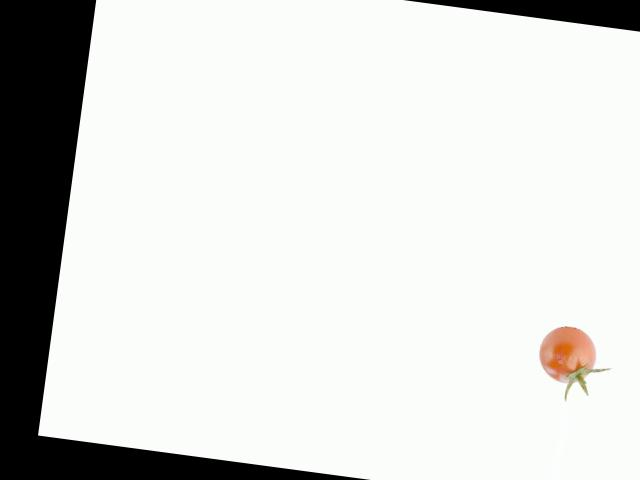tomato: (535, 322, 598, 385)
